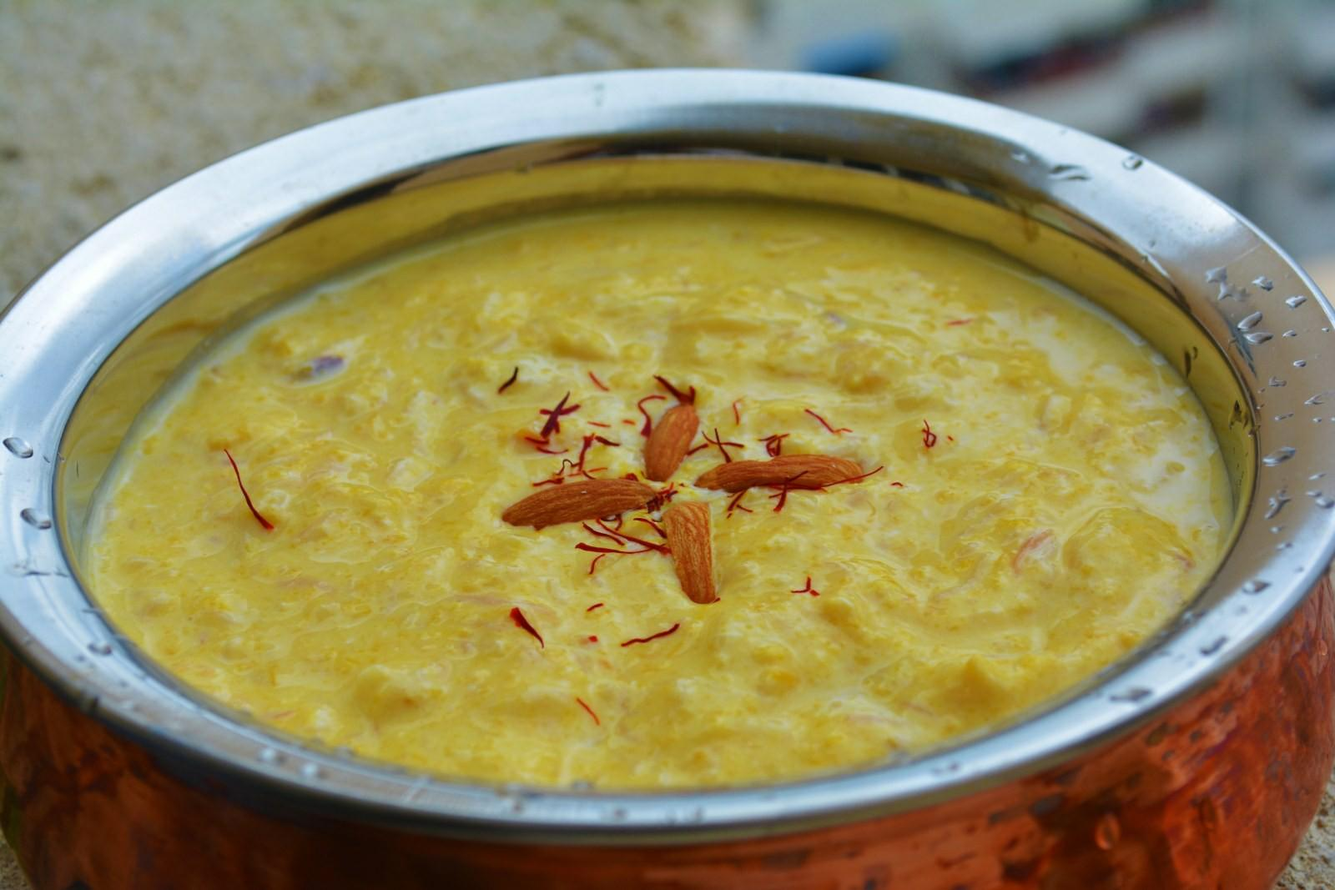Kheer: (91, 213, 1234, 793)
